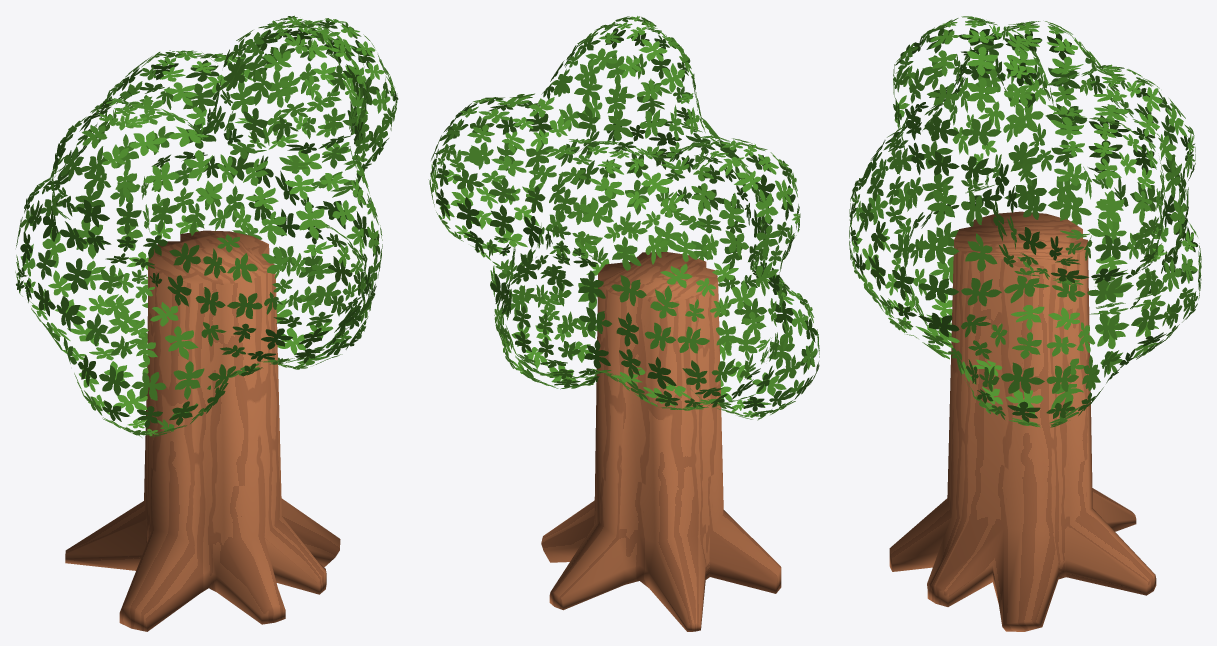
File: tree-a.glb
The picture shows the model from 3 angles, left to right: view 1: azimuth 30°, elevation 25°; view 2: azimuth 150°, elevation 25°; view 3: azimuth 270°, elevation 25°; orthographic projection. The views are drawn at different scales.
Parts seen in each view (by area): view 1: leaves, trunk; view 2: leaves, trunk; view 3: leaves, trunk.
Boxes of the visible parts, box(x1,y1,x2,y2) form: leaves: box(15, 15, 398, 437); trunk: box(65, 230, 340, 631); leaves: box(428, 16, 819, 420); trunk: box(541, 252, 781, 631); leaves: box(849, 16, 1201, 427); trunk: box(889, 211, 1156, 631).
Bounding box in the file's own units: 4.74 × 7.15 × 3.92.
Materials: 2 (2 with a texture image).
